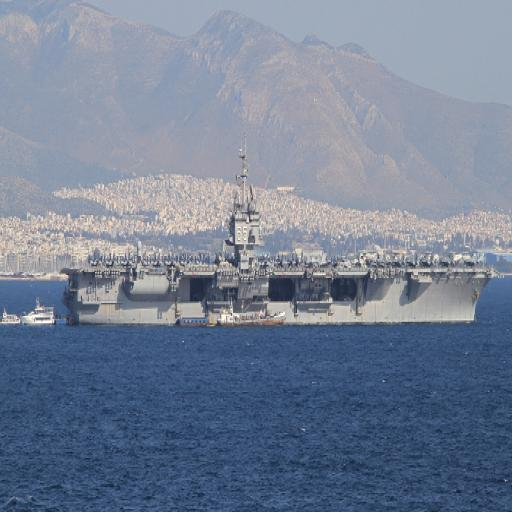Portanaves: (62, 131, 496, 332)
